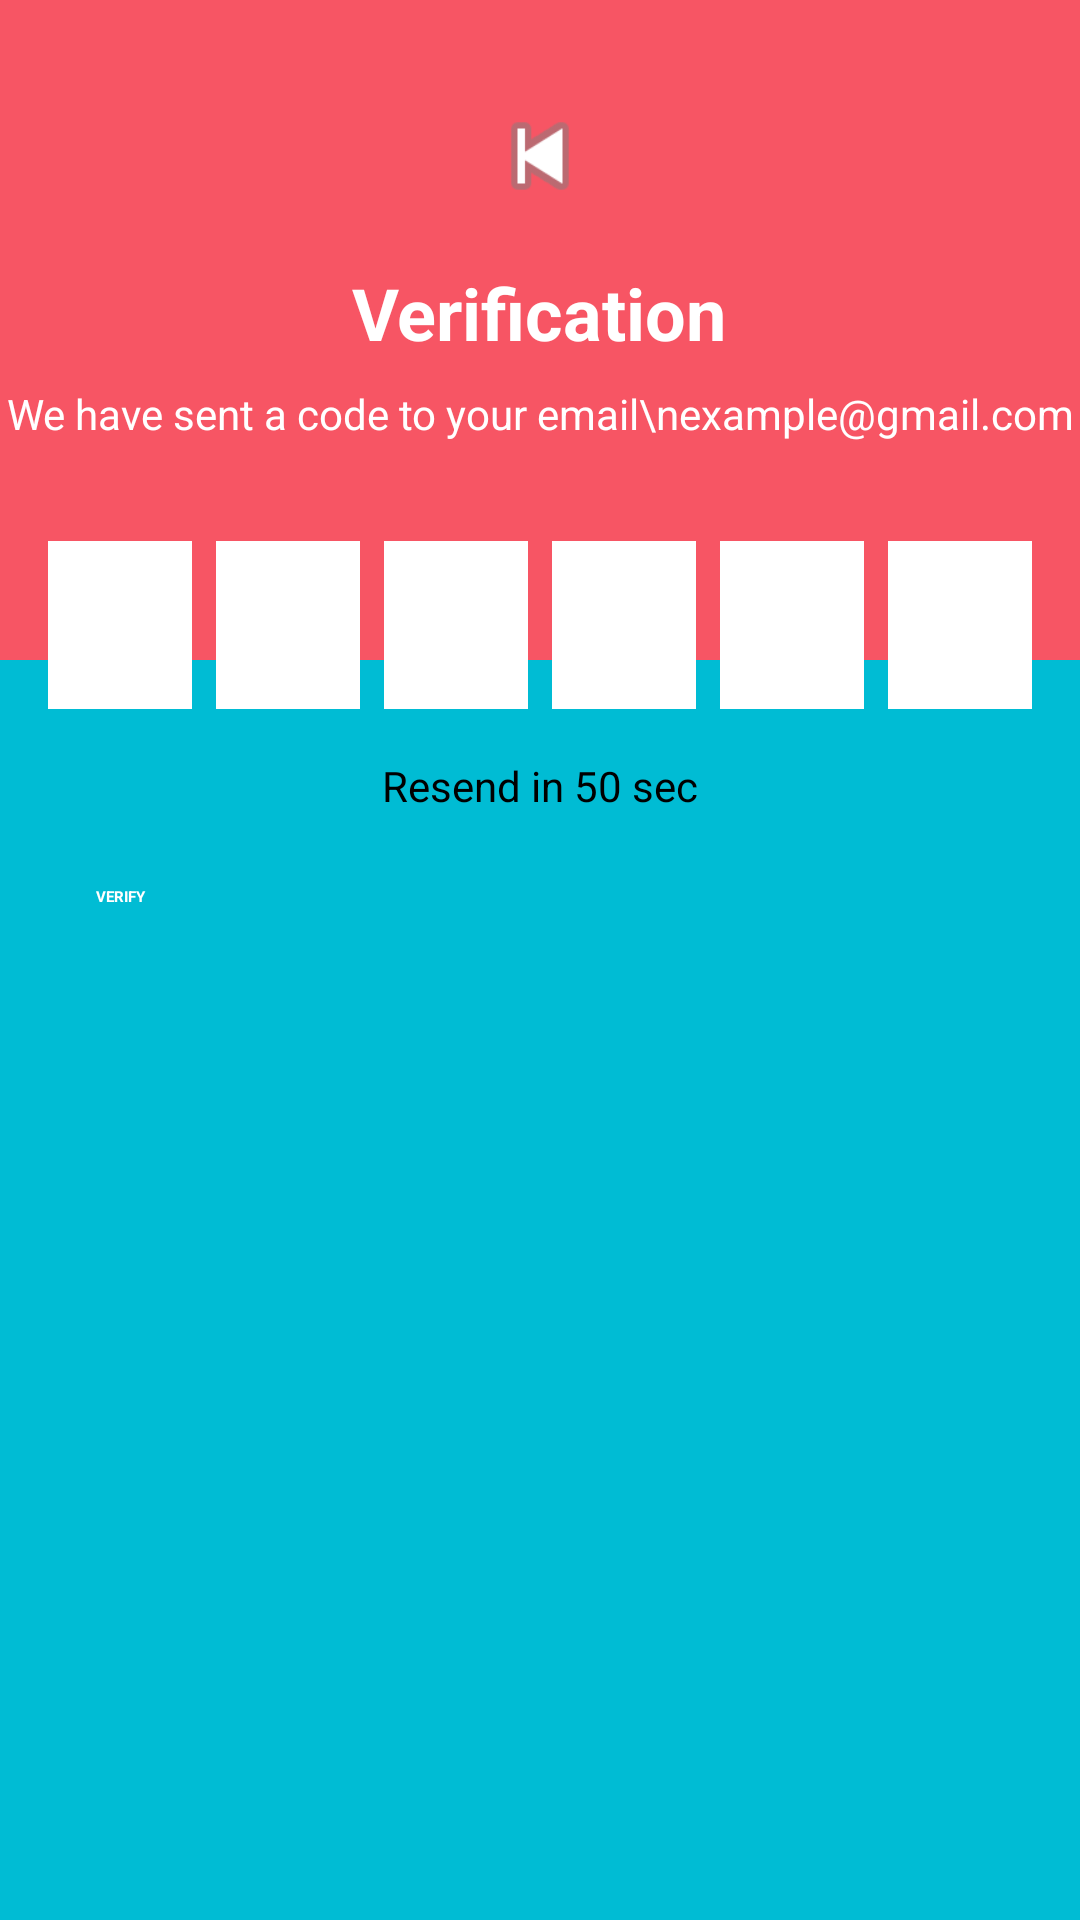

Screen size 1080*1920. Icon name, then its box in pixels as (x1, y1, x2, y2):
Back: (511, 122, 569, 190)
